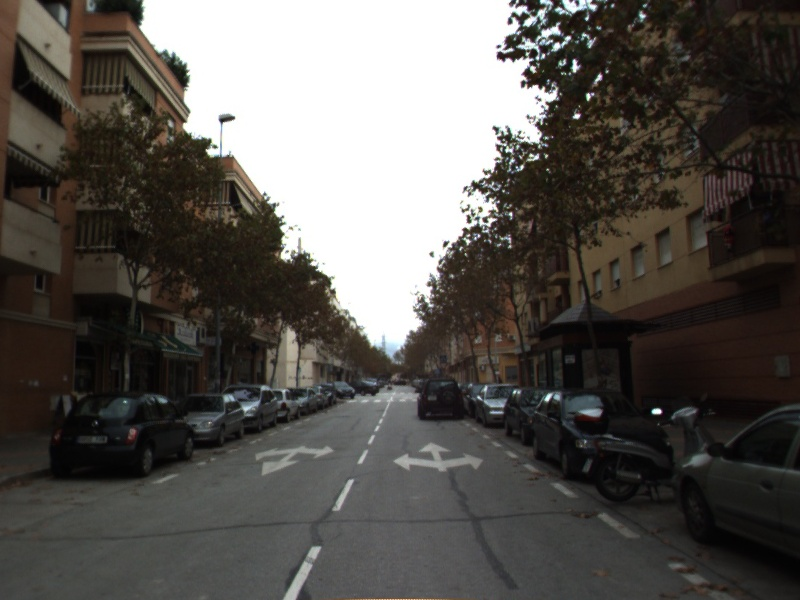STRAIGHT_LEFT_RIGHT: (391, 440, 486, 473)
